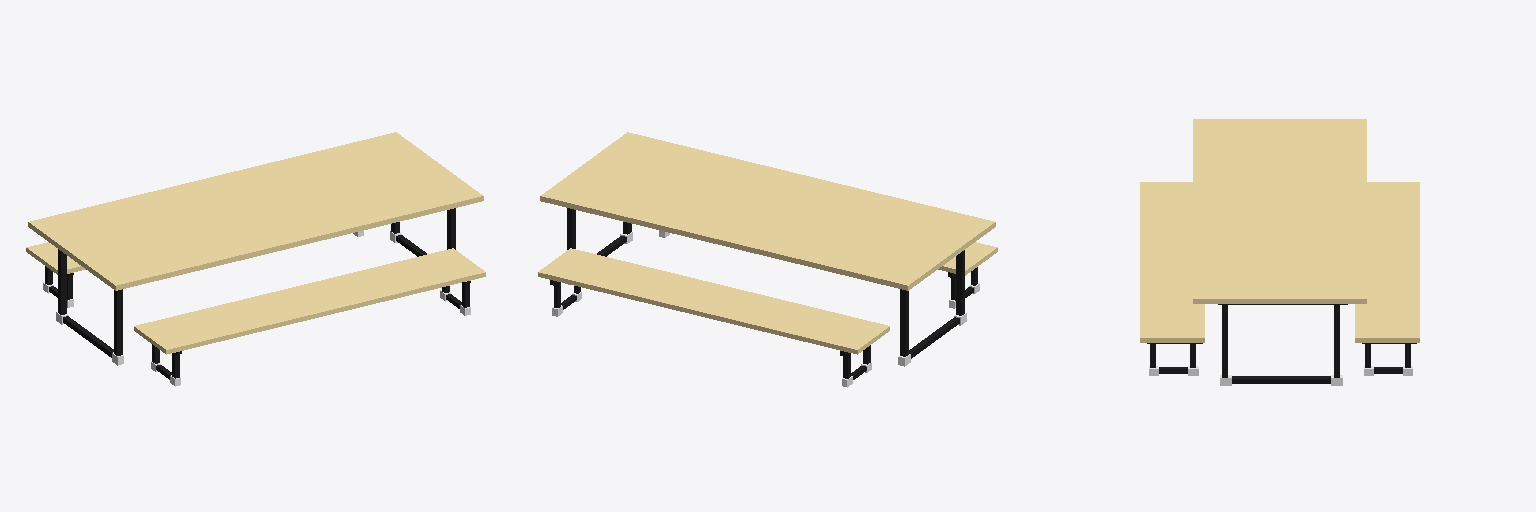
The picture shows the model from 3 angles: view 1: azimuth 30°, elevation 25°; view 2: azimuth 150°, elevation 25°; view 3: azimuth 270°, elevation 25°; orthographic projection.
Parts seen in each view (by area): view 1: Cube_Cube.001; view 2: Cube_Cube.001; view 3: Cube_Cube.001.
Boxes of the visible parts, <box> form: Cube_Cube.001: <box>26,132,485,386</box>; Cube_Cube.001: <box>538,132,997,387</box>; Cube_Cube.001: <box>1140,119,1419,385</box>.
Bounding box in the file's own units: 4.02 × 0.9823 × 2.65.
1 materials, 1 textured.